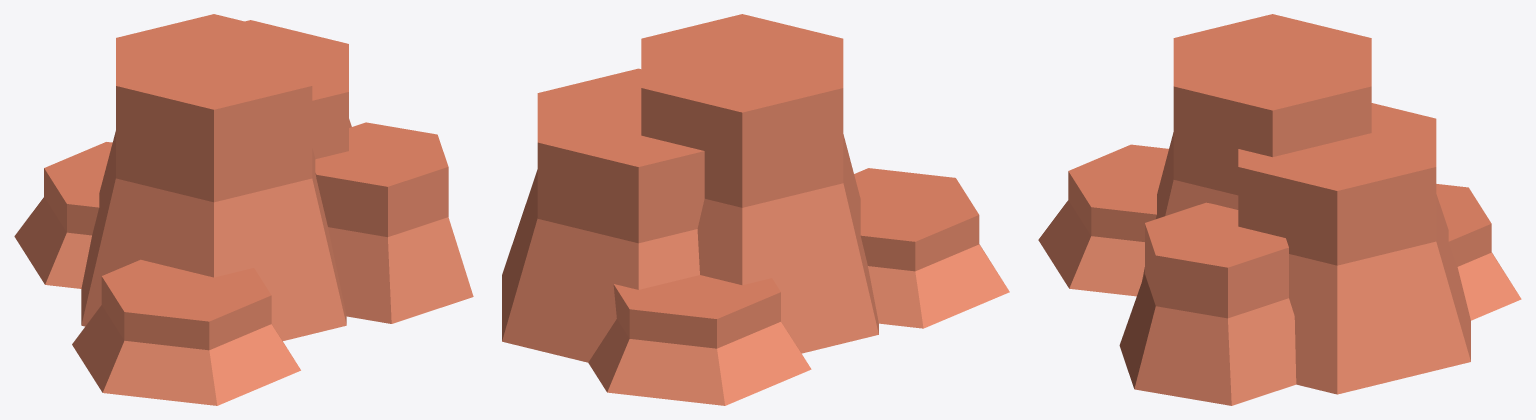
The model's file is rock_largeB.dae.
3 renders of one model, left to right at view 1: azimuth 30°, elevation 25°; view 2: azimuth 150°, elevation 25°; view 3: azimuth 270°, elevation 25°, orthographic. The views are drawn at different scales.
Parts seen in each view (by area): view 1: rock_largeB; view 2: rock_largeB; view 3: rock_largeB.
Boxes of the visible parts, x1,y1,x2,y2 form: rock_largeB: (14,14,473,405); rock_largeB: (502,14,1009,405); rock_largeB: (1038,14,1521,405).
Size of the model in its own units: 0.9278 by 0.5 by 0.9393.
